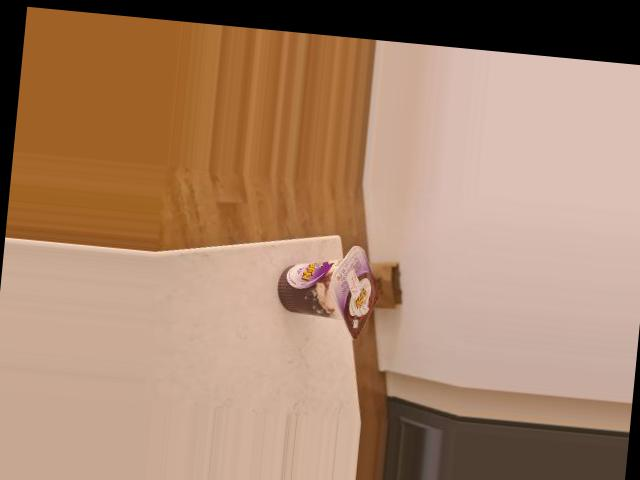milky: (273, 239, 384, 340)
